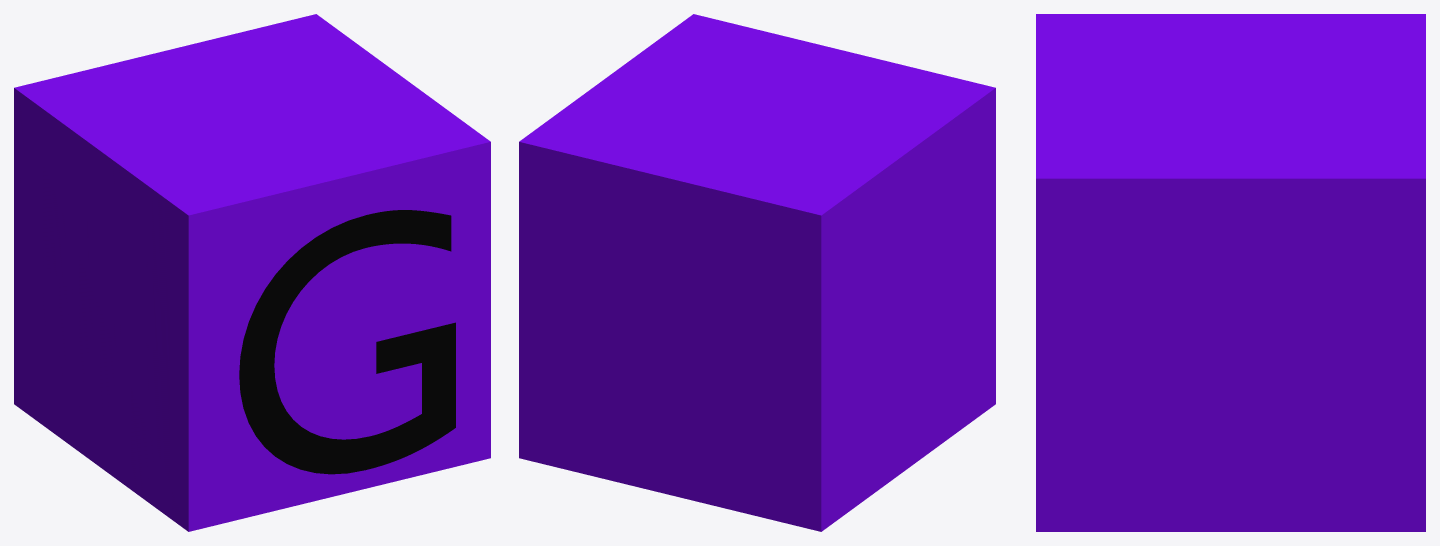
File: Tegel7.gltf
The picture shows the model from 3 angles, left to right: view 1: azimuth 30°, elevation 25°; view 2: azimuth 150°, elevation 25°; view 3: azimuth 270°, elevation 25°; orthographic projection. The views are drawn at different scales.
Visible parts, largest first — view 1: Cube.010, Text.010; view 2: Cube.010; view 3: Cube.010.
Part boxes in pixels (<box>): Cube.010: <box>14,14,490,531</box>; Text.010: <box>239,210,455,474</box>; Cube.010: <box>519,14,995,531</box>; Cube.010: <box>1036,14,1425,531</box>.
Size of the model in its own units: 0.2 by 0.2 by 0.2061.
